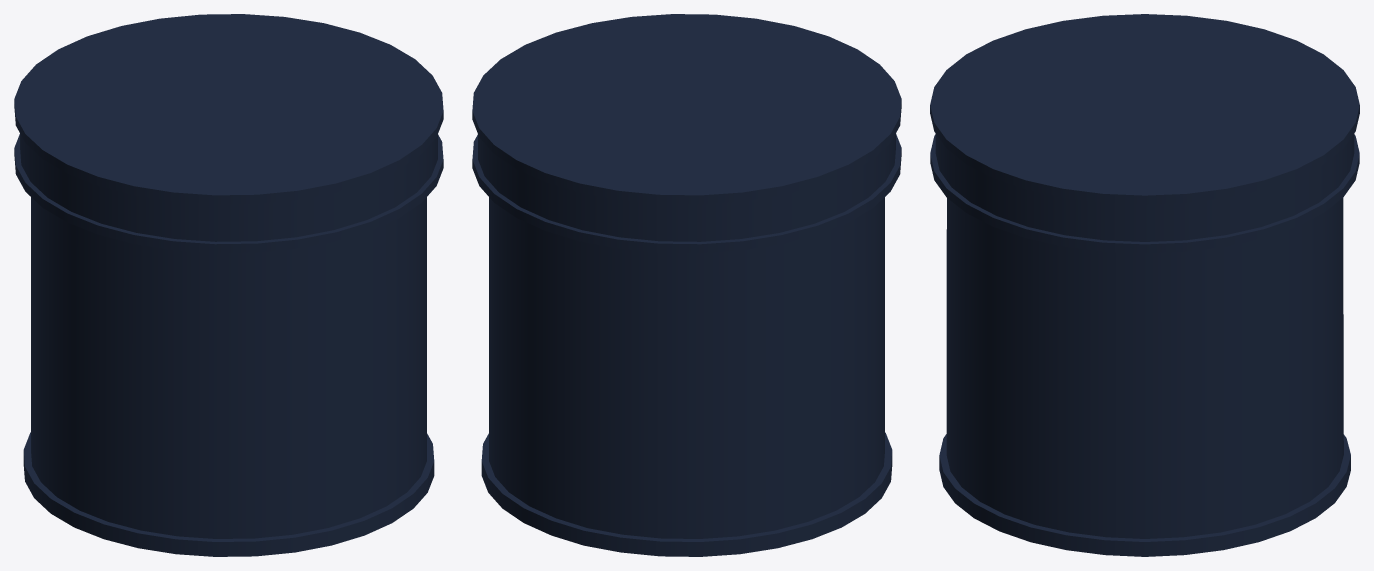
File: trashcan_tier7.fbx
The picture shows the model from 3 angles, left to right: view 1: azimuth 30°, elevation 25°; view 2: azimuth 150°, elevation 25°; view 3: azimuth 270°, elevation 25°; orthographic projection.
Parts seen in each view (by area): view 1: Cylinder; view 2: Cylinder; view 3: Cylinder.
Part boxes in pixels (x1,y1,x2,y2): Cylinder: [14, 14, 443, 556]; Cylinder: [472, 14, 901, 556]; Cylinder: [930, 14, 1359, 556].
Size of the model in its own units: 0.7226 by 0.6777 by 0.7226.
